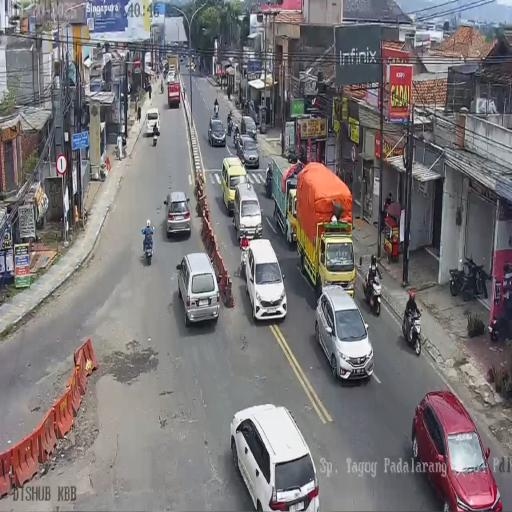car: (410, 391, 502, 510), (230, 403, 318, 511), (317, 284, 374, 381), (243, 238, 289, 322), (175, 252, 220, 326), (232, 182, 262, 243), (164, 190, 191, 238), (208, 117, 226, 147), (240, 114, 258, 142), (145, 107, 160, 136), (167, 65, 176, 82), (191, 64, 195, 72)
motorcycle: (450, 254, 488, 301), (402, 299, 422, 356), (489, 298, 512, 342), (364, 267, 382, 316), (142, 227, 154, 261), (265, 163, 273, 197), (233, 124, 240, 148), (227, 111, 233, 136), (214, 102, 218, 117), (160, 84, 164, 94), (155, 73, 158, 83)
truck: (289, 159, 351, 296), (167, 80, 180, 109)
